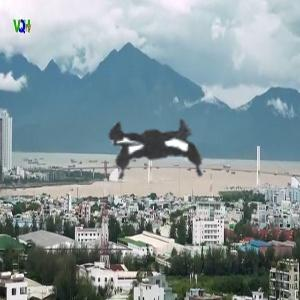drone: (12, 7, 293, 288)
